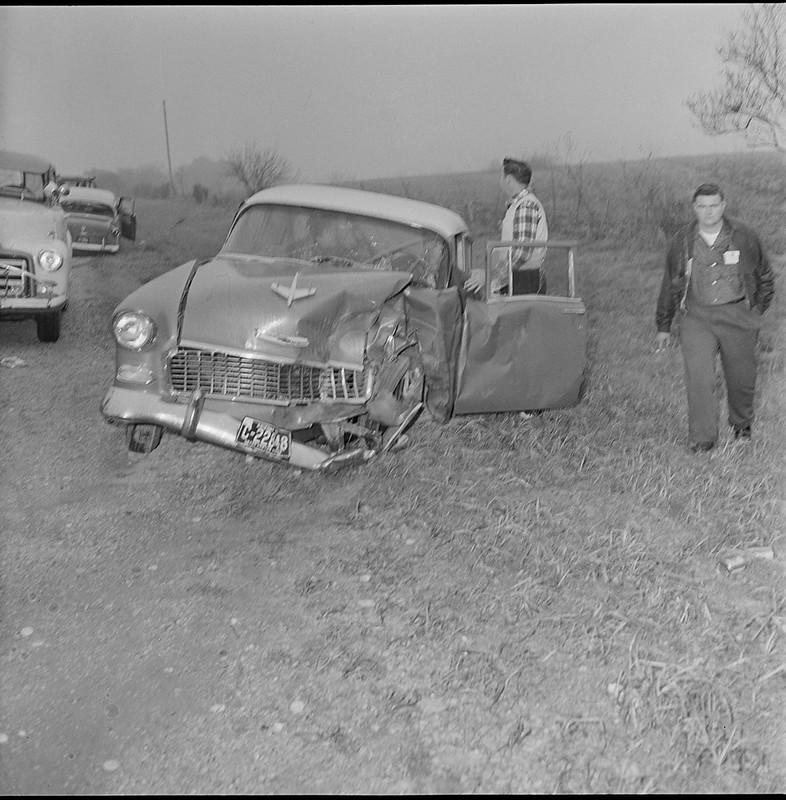bonnet-dent: (173, 270, 407, 357)
doorouter-dent: (476, 230, 587, 405)
front-bumper-dent: (126, 328, 405, 455)
